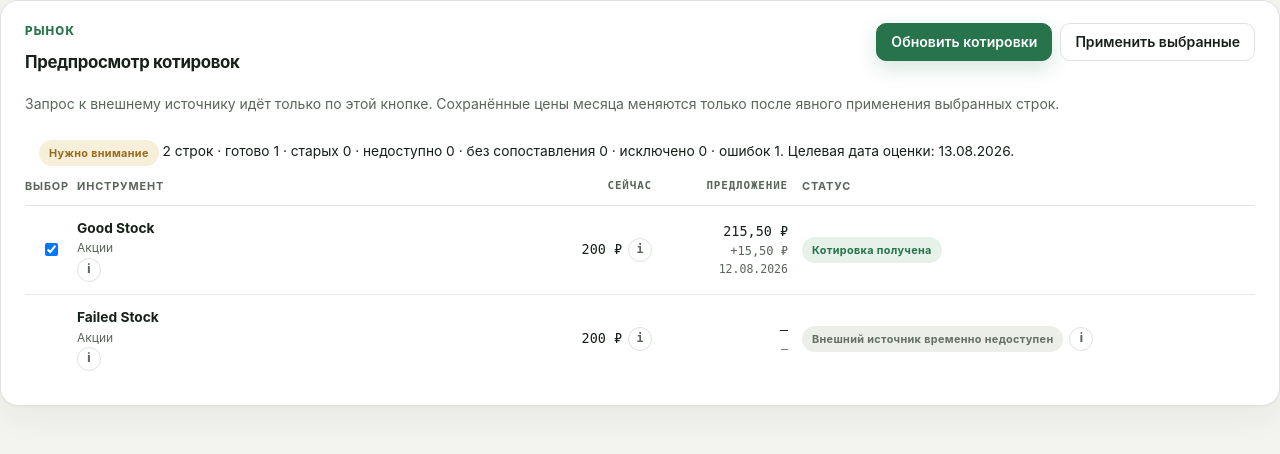
QuotePreviewPanel › keeps a successful T-Invest row selectable when another row failed
Expected: the checkbox named "Выбрать Good Stock" is checked, [29,243,74,256]
Expected: the button "Применить выбранные" is enabled, [1060,23,1255,61]
Step 1. Click the button named "Подробности статуса для Failed Stock" → (1082, 339), box [1070,327,1094,351]
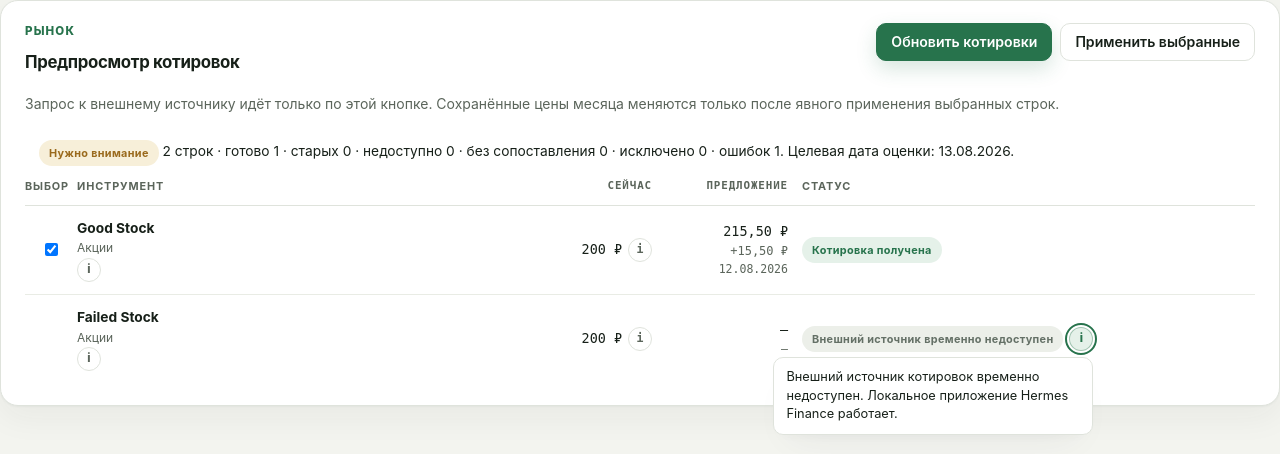
Expected: the tooltip shows "Локальное приложение Hermes Finance работает", [786,369,1068,421]
